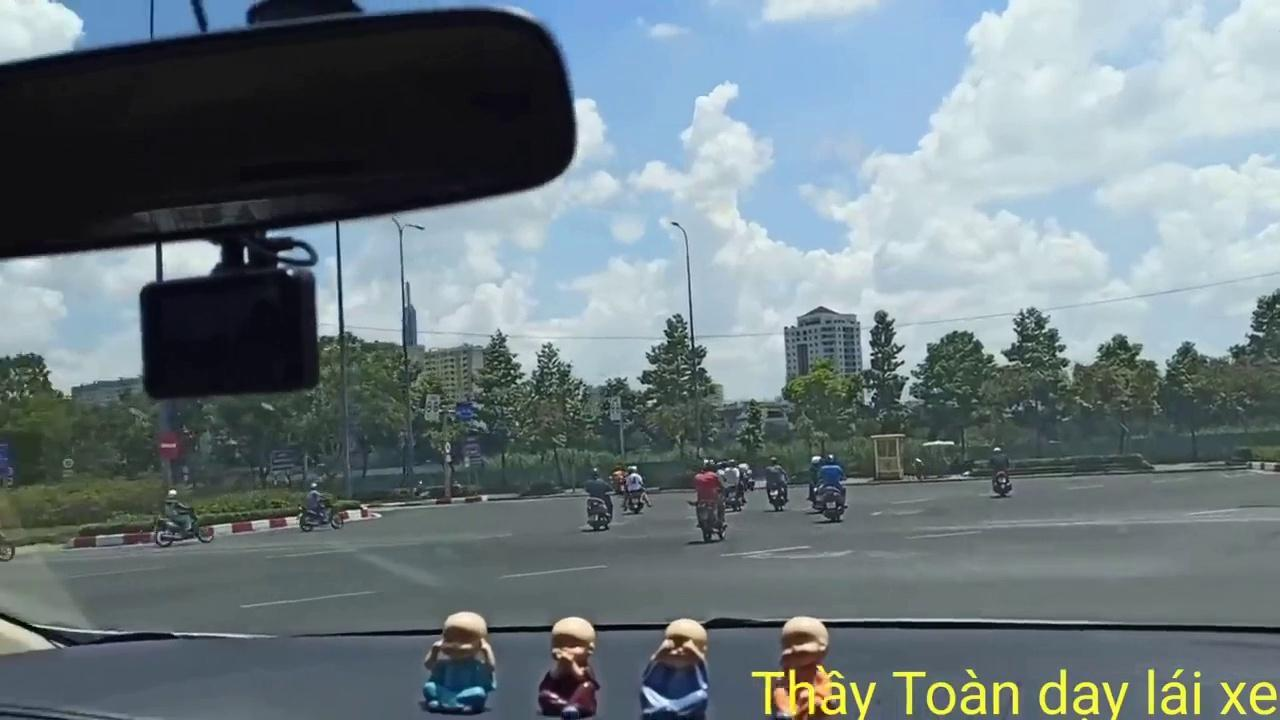Cấm cac phương tiện hoạt động trong khung giờ cố định: (425, 393, 440, 422)
Cấm đi ngược chiều: (155, 428, 185, 463)
